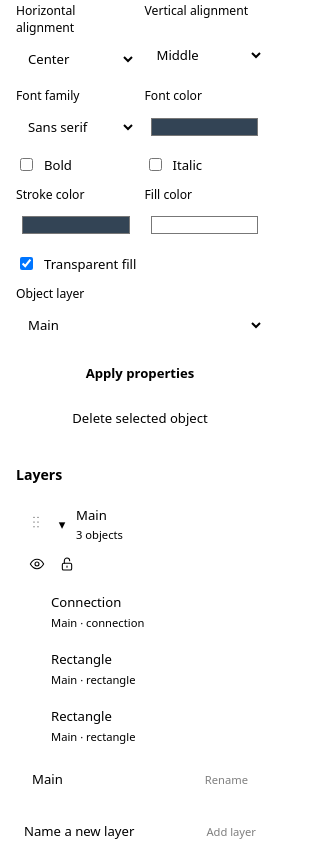
Scenario: canvas properties and layers › deletes one selected shape and its connection, then clears selection
(page scrolled)
What coordinates should you click on to do the following:
click the button "Delete selected object"
I would click on:
 (140, 418)
Its box is [16, 403, 264, 433].
(page scrolled)
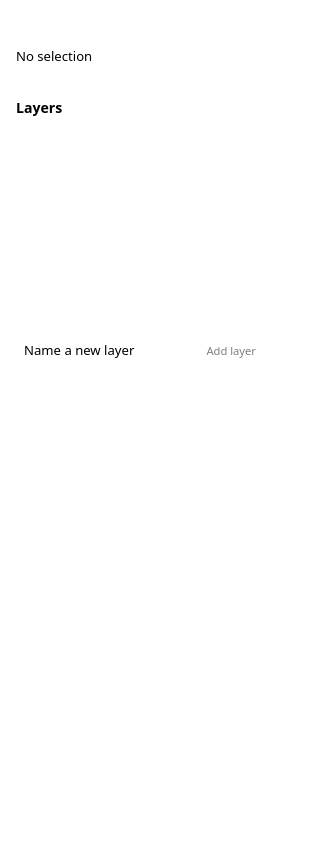
expect the text "No selection" is shown: met, box [16, 47, 92, 65]
